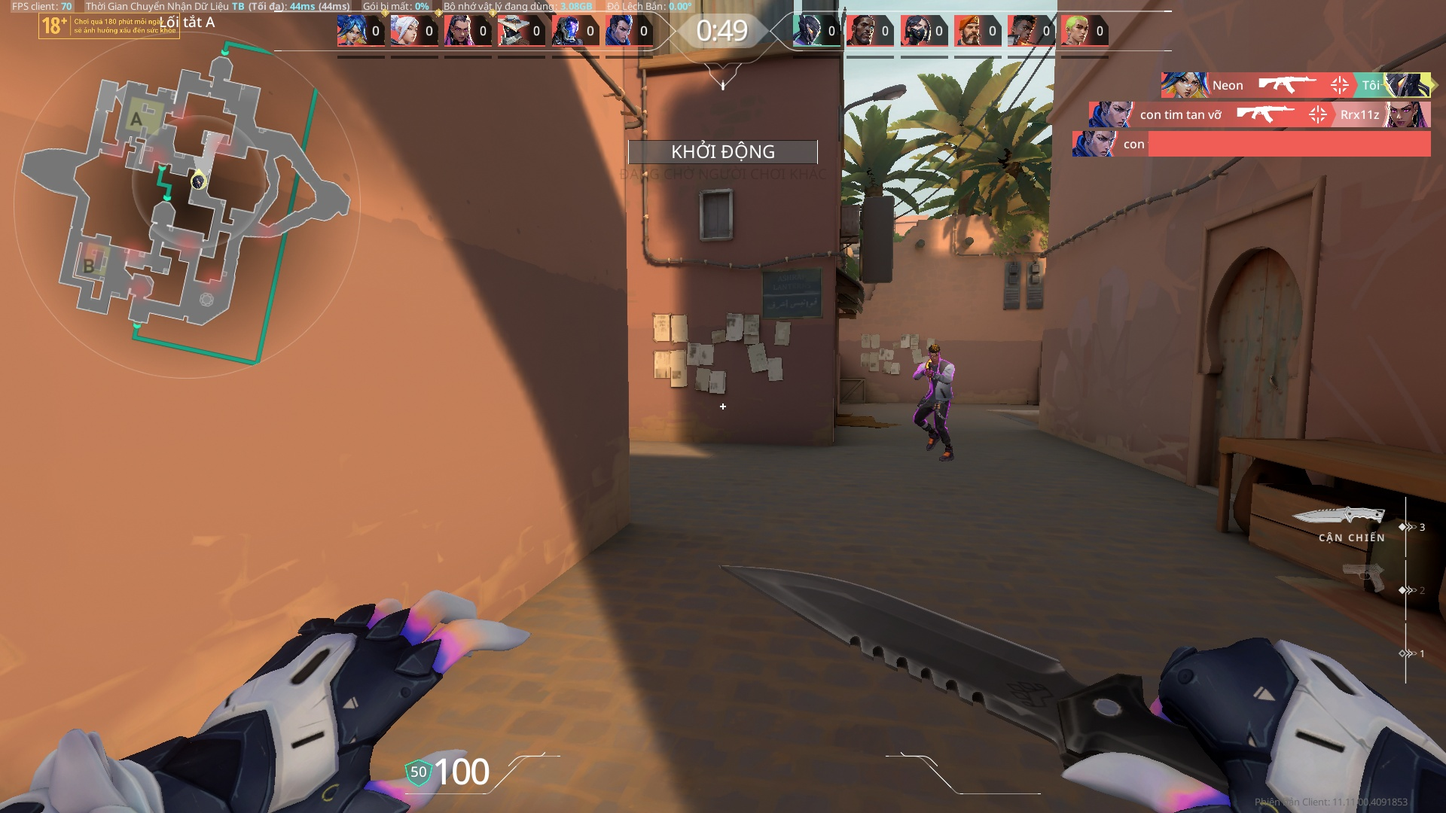body: (921, 358, 950, 396)
head: (926, 346, 938, 359)
